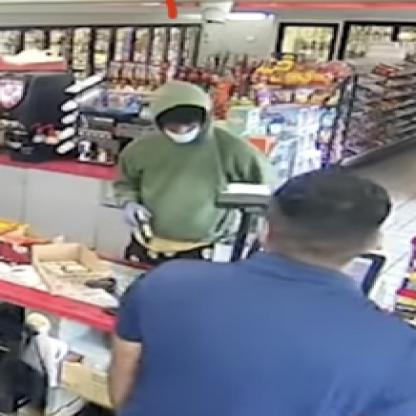criminal: (114, 81, 276, 271)
weapon: (133, 207, 158, 245)
